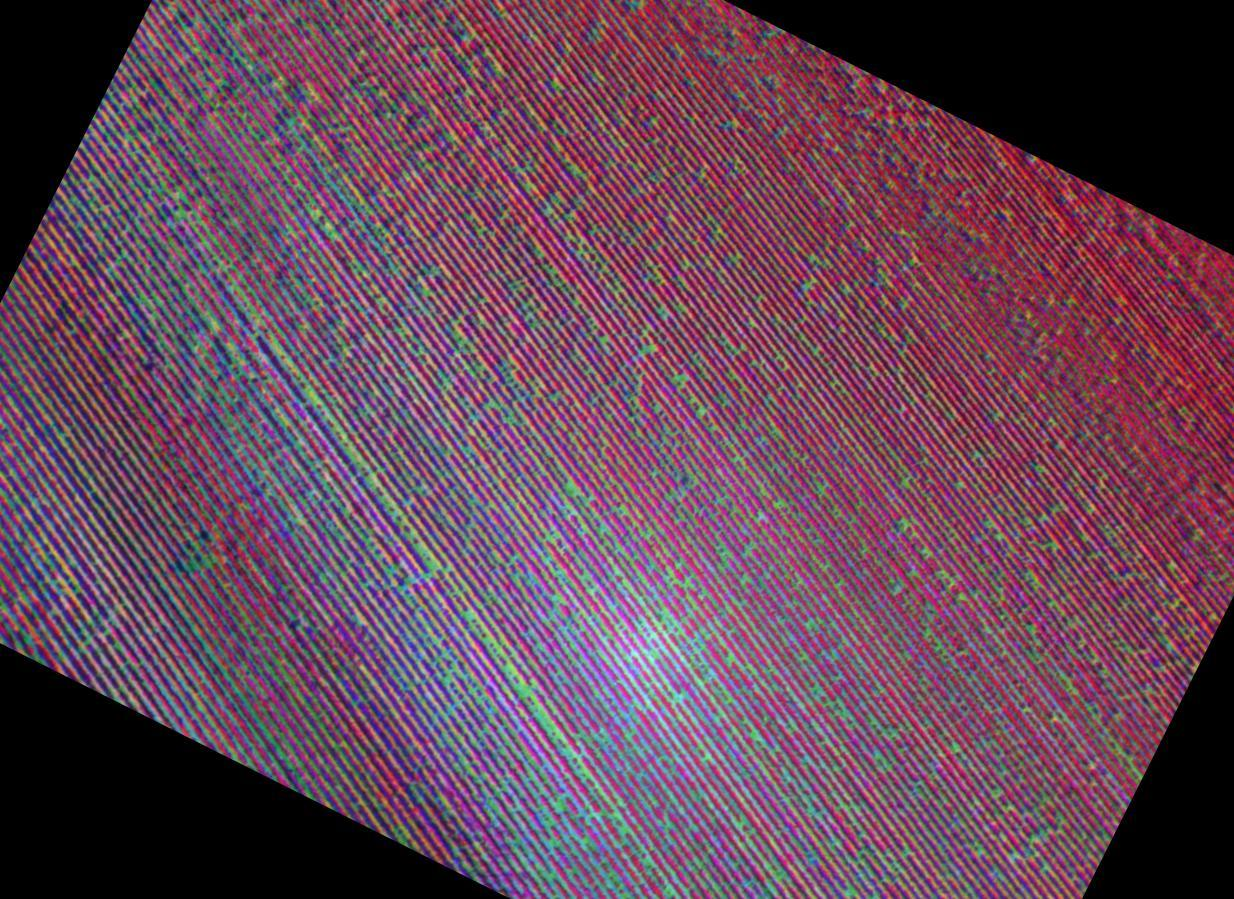dc: (598, 533, 694, 652), (398, 590, 489, 697), (103, 188, 193, 285), (181, 305, 249, 423), (278, 435, 346, 527)
